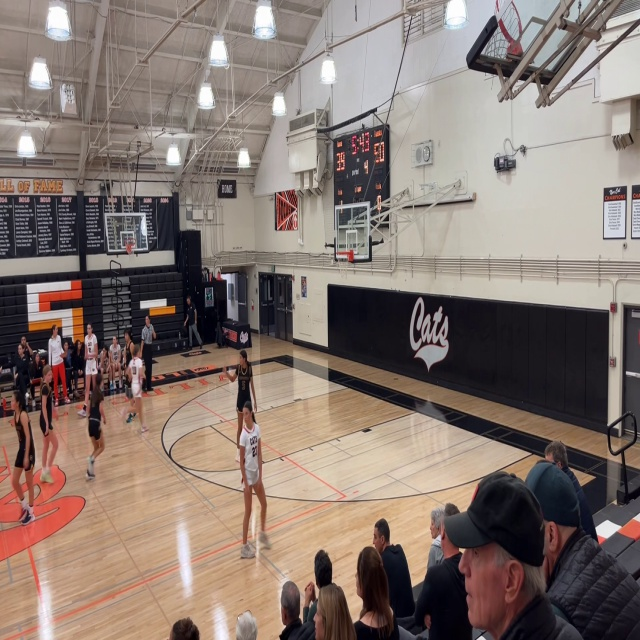Basketball: (507, 40, 522, 56)
